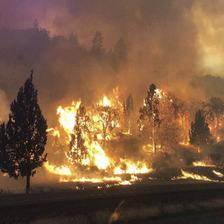fire: (34, 81, 194, 186)
